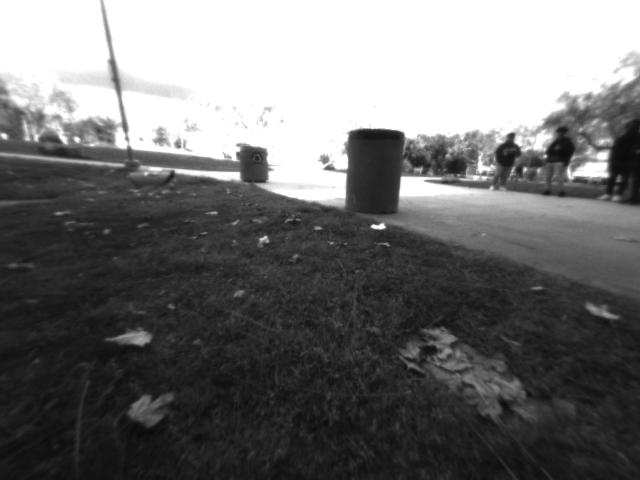trashcan: (340, 122, 409, 223), (233, 136, 273, 188)
